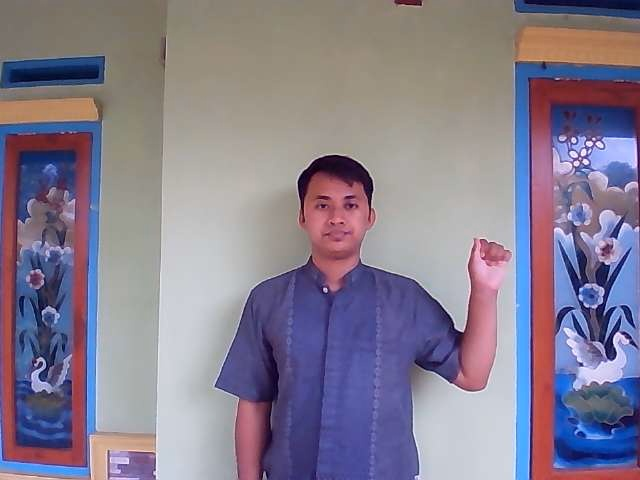A: (454, 230, 515, 296)
